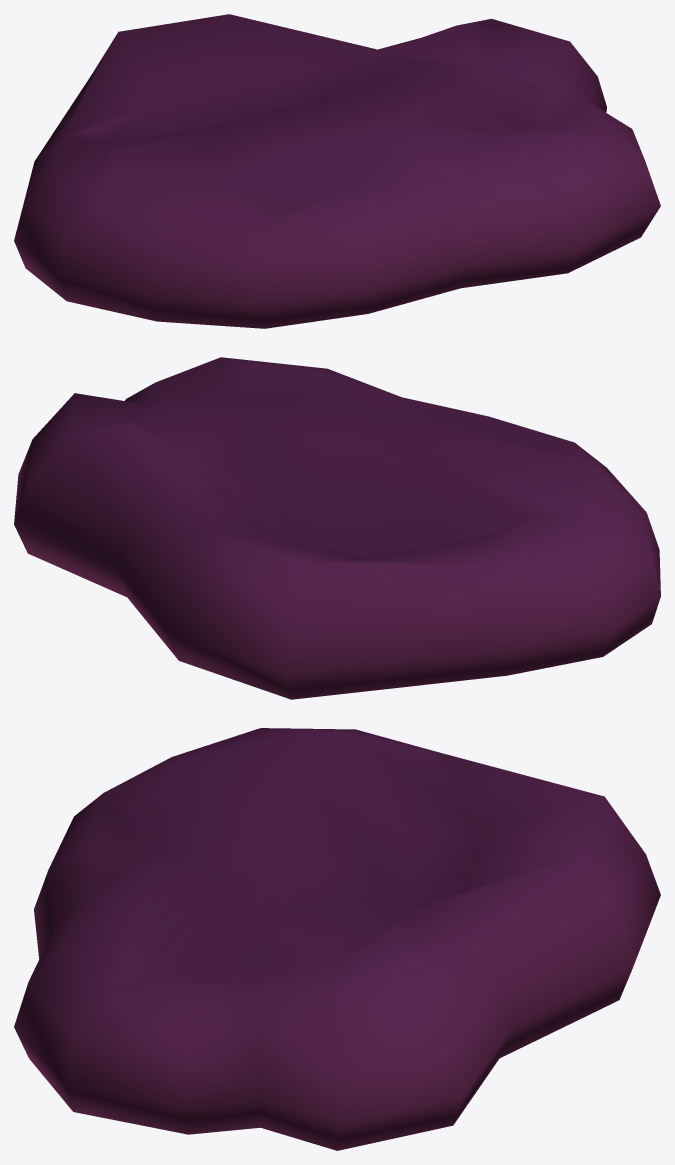
File: Gum_Type1.fbx
The picture shows the model from 3 angles, top to bottom: view 1: azimuth 30°, elevation 25°; view 2: azimuth 150°, elevation 25°; view 3: azimuth 270°, elevation 25°; orthographic projection. The views are drawn at different scales.
Parts seen in each view (by area): view 1: Gum_Type1; view 2: Gum_Type1; view 3: Gum_Type1.
Boxes of the visible parts, box(x1,y1,x2,y2) form: Gum_Type1: box(14, 14, 660, 328); Gum_Type1: box(14, 357, 660, 699); Gum_Type1: box(14, 728, 660, 1150).
Bounding box in the file's own units: 25.64 × 5.69 × 20.56.
